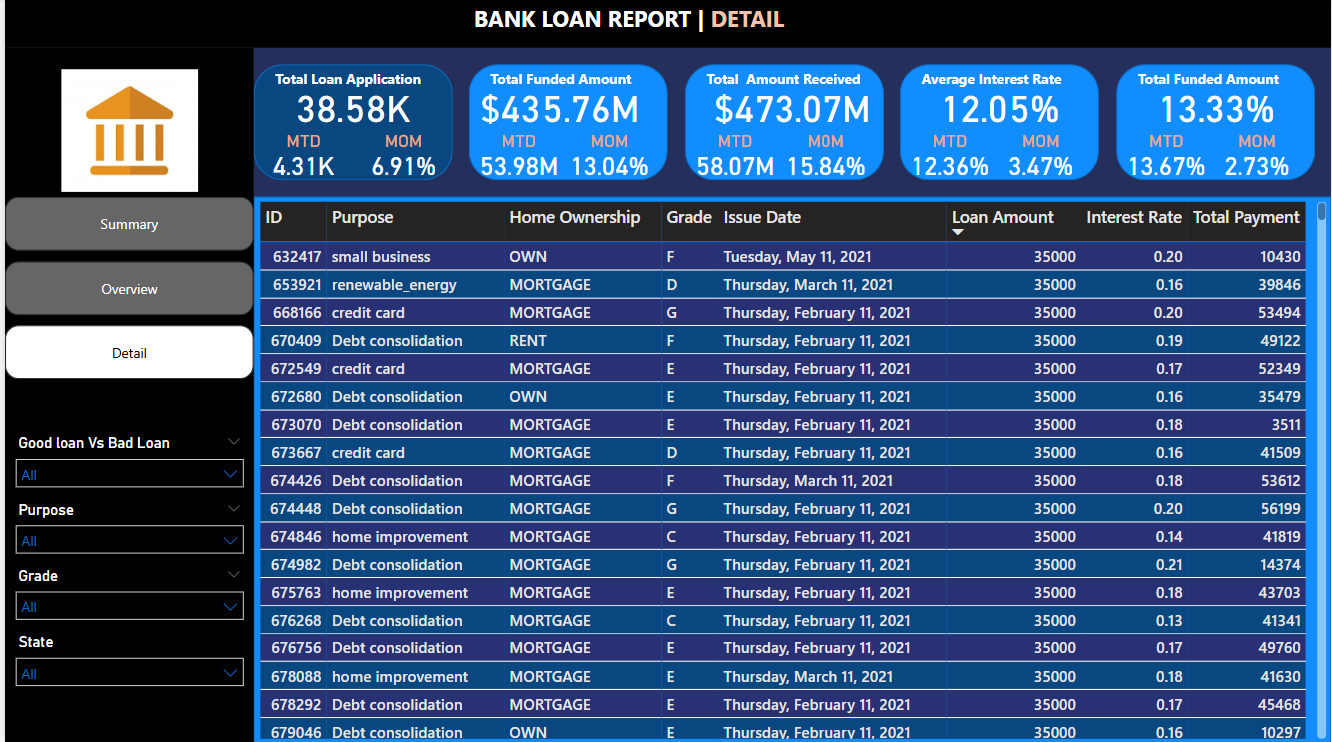

Layout of this report page (visuals, bound fields, positions):
{"tool":"powerbi","page":{"name":"Detail","canvas":[1280,720],"ordinal":2},"visuals":[{"type":"shape","box":[448,64,192,112],"z":0,"group":"g1"},{"type":"shape","box":[656,64,192,112],"z":0,"group":"g2"},{"type":"shape","box":[864,64,192,112],"z":0,"group":"g3"},{"type":"shape","box":[1072,64,192,112],"z":0,"group":"g4"},{"type":"shape","box":[240,192,1040,528],"z":0},{"type":"shape","box":[0,48,240,672],"z":1000},{"type":"card","title":"Total Funded Amount","fields":{"Values":["financial_loan.Total_funded_Amount"]},"box":[448,64,176,80],"z":1000,"group":"g1"},{"type":"card","title":"Total Funded Amount","fields":{"Values":["financial_loan.Total_Amount_recieved"]},"box":[672,64,176,80],"z":1000,"group":"g2"},{"type":"card","title":"Total Funded Amount","fields":{"Values":["financial_loan.Average_int_rate"]},"box":[896,64,128,80],"z":1000,"group":"g3"},{"type":"card","title":"Total Funded Amount","fields":{"Values":["financial_loan.Average DTI"]},"box":[1104,64,128,80],"z":1000,"group":"g4"},{"type":"shape","box":[0,0,1280,48],"z":2000},{"type":"textbox","box":[464,64,192,32],"z":2000,"group":"g1"},{"type":"textbox","box":[672,64,192,32],"z":2000,"group":"g2"},{"type":"textbox","box":[880,64,192,32],"z":2000,"group":"g3"},{"type":"textbox","box":[1088,64,192,32],"z":2000,"group":"g4"},{"type":"textbox","box":[448,0,416,48],"z":3000},{"type":"card","title":"MTD","fields":{"Values":["financial_loan.MTD_loan_funded"]},"box":[448,128,96,48],"z":3000,"group":"g1"},{"type":"card","title":"MTD","fields":{"Values":["financial_loan.MTD_Loan_Amount_Rec"]},"box":[656,128,96,48],"z":3000,"group":"g2"},{"type":"card","title":"MTD","fields":{"Values":["financial_loan.MTD_average_Rate"]},"box":[864,128,96,48],"z":3000,"group":"g3"},{"type":"card","title":"MTD","fields":{"Values":["financial_loan.MTD DTI"]},"box":[1072,128,96,48],"z":3000,"group":"g4"},{"type":"shape","box":[240,64,192,112],"z":4000},{"type":"card","title":"MOM","fields":{"Values":["financial_loan.MTM_loan_funded%"]},"box":[528,128,112,48],"z":4000,"group":"g1"},{"type":"card","title":"M0M","fields":{"Values":["financial_loan.MOM_loan_Receve%"]},"box":[736,128,112,48],"z":4000,"group":"g2"},{"type":"card","title":"MOM","fields":{"Values":["financial_loan.MOM_Average%"]},"box":[944,128,112,48],"z":4000,"group":"g3"},{"type":"card","title":"MOM","fields":{"Values":["financial_loan.MOM DTI %"]},"box":[1152,128,112,48],"z":4000,"group":"g4"},{"type":"card","title":"Total Loan Aplication","fields":{"Values":["CountNonNull(financial_loan.id)"]},"box":[224,80,224,48],"z":5000},{"type":"textbox","box":[256,64,176,32],"z":6000},{"type":"card","title":"MTD","fields":{"Values":["financial_loan.MTD_Loan_app"]},"box":[240,128,96,48],"z":7000},{"type":"card","title":"MOM","fields":{"Values":["financial_loan.MTM_loan aplication"]},"box":[336,128,96,48],"z":8000},{"type":"group","id":"g1","title":"Group 1","box":[448,64,208,112],"z":9000},{"type":"group","id":"g2","title":"Group 1","box":[656,64,208,112],"z":10000},{"type":"group","id":"g3","title":"Group 1","box":[864,64,208,112],"z":11000},{"type":"group","id":"g4","title":"Group 1","box":[1072,64,192,112],"z":12000},{"type":"slicer","fields":{"Values":["financial_loan.purpose"]},"box":[0,480,240,64],"z":13000},{"type":"slicer","fields":{"Values":["financial_loan.grade"]},"box":[0,544,240,64],"z":14000},{"type":"slicer","fields":{"Values":["financial_loan.address_state"]},"box":[0,608,240,80],"z":15000},{"type":"tableEx","fields":{"Values":["financial_loan.id","financial_loan.purpose","financial_loan.home_ownership","financial_loan.grade","financial_loan.issue_date","Sum(financial_loan.loan_amount)","Sum(financial_loan.int_rate)","Sum(financial_loan.total_payment)"]},"box":[240,192,1040,528],"z":16000},{"type":"slicer","fields":{"Values":["financial_loan.Good loan Vs Bad Loan"]},"box":[0,416,240,64],"z":17000},{"type":"pageNavigator","box":[0,192,240,176],"z":18000},{"type":"image","box":[0,64,240,128],"z":18001}]}

Visuals, with their boxes in screenshot pixels (x1, y1, x2, y2), scaled from the page's 1280x720 canvas onto the 1332x742 screenshot:
shape: bbox=(466, 66, 666, 181)
shape: bbox=(683, 66, 882, 181)
shape: bbox=(899, 66, 1099, 181)
shape: bbox=(1116, 66, 1315, 181)
shape: bbox=(250, 198, 1331, 741)
shape: bbox=(0, 49, 250, 741)
"Total Funded Amount" card: bbox=(466, 66, 649, 148)
"Total Funded Amount" card: bbox=(699, 66, 882, 148)
"Total Funded Amount" card: bbox=(932, 66, 1066, 148)
"Total Funded Amount" card: bbox=(1149, 66, 1282, 148)
shape: bbox=(0, 0, 1331, 49)
textbox: bbox=(483, 66, 683, 99)
textbox: bbox=(699, 66, 899, 99)
textbox: bbox=(916, 66, 1116, 99)
textbox: bbox=(1132, 66, 1331, 99)
textbox: bbox=(466, 0, 899, 49)
"MTD" card: bbox=(466, 132, 566, 181)
"MTD" card: bbox=(683, 132, 783, 181)
"MTD" card: bbox=(899, 132, 999, 181)
"MTD" card: bbox=(1116, 132, 1215, 181)
shape: bbox=(250, 66, 450, 181)
"MOM" card: bbox=(549, 132, 666, 181)
"M0M" card: bbox=(766, 132, 882, 181)
"MOM" card: bbox=(982, 132, 1099, 181)
"MOM" card: bbox=(1199, 132, 1315, 181)
"Total Loan Aplication" card: bbox=(233, 82, 466, 132)
textbox: bbox=(266, 66, 450, 99)
"MTD" card: bbox=(250, 132, 350, 181)
"MOM" card: bbox=(350, 132, 450, 181)
"Group 1" group: bbox=(466, 66, 683, 181)
"Group 1" group: bbox=(683, 66, 899, 181)
"Group 1" group: bbox=(899, 66, 1116, 181)
"Group 1" group: bbox=(1116, 66, 1315, 181)
slicer - financial_loan.purpose: bbox=(0, 495, 250, 561)
slicer - financial_loan.grade: bbox=(0, 561, 250, 627)
slicer - financial_loan.address_state: bbox=(0, 627, 250, 709)
tableEx - financial_loan.id x financial_loan.purpose: bbox=(250, 198, 1331, 741)
slicer - financial_loan.Good loan Vs Bad Loan: bbox=(0, 429, 250, 495)
pageNavigator: bbox=(0, 198, 250, 379)
image: bbox=(0, 66, 250, 198)
